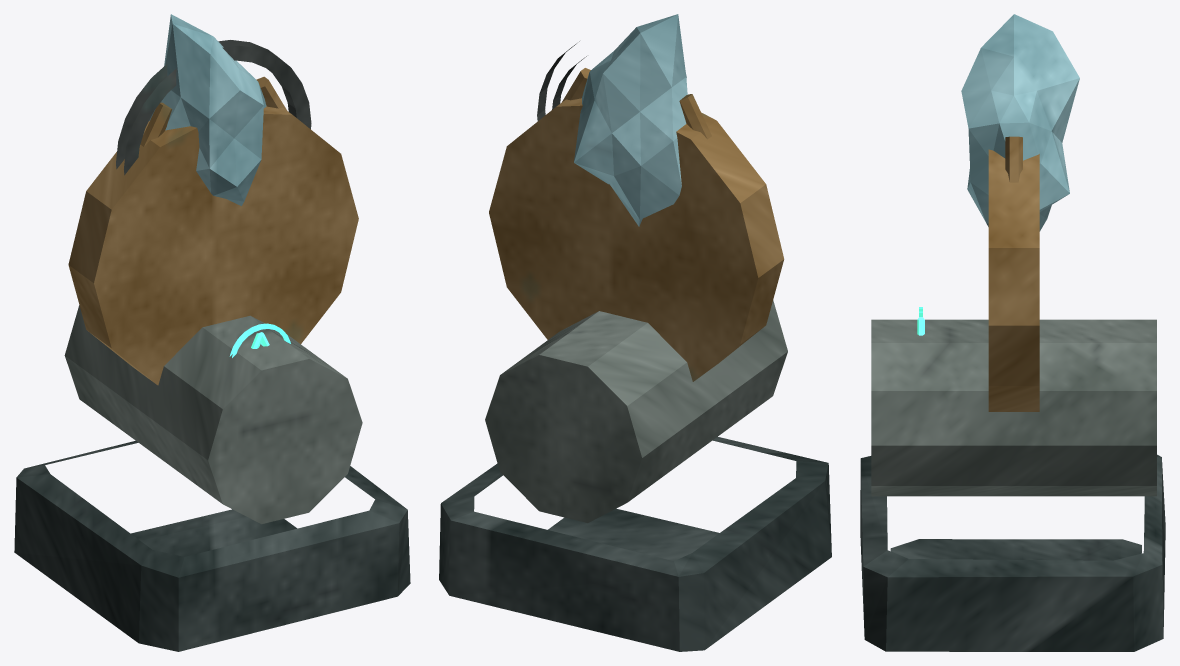
Rendered from 0594_relic_pedestal_19.glb.
3 views of the same model, side by side, from view 1: azimuth 30°, elevation 25°; view 2: azimuth 150°, elevation 25°; view 3: azimuth 270°, elevation 25° (orthographic). The views are drawn at different scales.
Visible parts, largest first — view 1: brass, stone_dark, stone, ice, iron, glow; view 2: brass, stone_dark, stone, ice, iron; view 3: stone, stone_dark, ice, brass.
Boxes of the visible parts, x1=… form: brass: x1=68, y1=76, x2=358, y2=385; stone_dark: x1=14, y1=440, x2=410, y2=651; stone: x1=64, y1=305, x2=362, y2=524; ice: x1=149, y1=14, x2=266, y2=205; iron: x1=116, y1=40, x2=311, y2=175; glow: x1=229, y1=323, x2=290, y2=357; brass: x1=489, y1=68, x2=784, y2=381; stone_dark: x1=439, y1=437, x2=831, y2=651; stone: x1=485, y1=300, x2=787, y2=522; ice: x1=574, y1=14, x2=687, y2=226; iron: x1=537, y1=41, x2=586, y2=120; stone: x1=871, y1=319, x2=1156, y2=496; stone_dark: x1=860, y1=454, x2=1165, y2=651; ice: x1=961, y1=14, x2=1079, y2=231; brass: x1=988, y1=136, x2=1039, y2=411.
Size of the model in its own units: 0.9688 by 1.94 by 0.9617.
6 materials, 6 textured.
